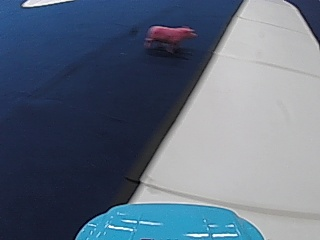pig: (143, 20, 196, 56)
